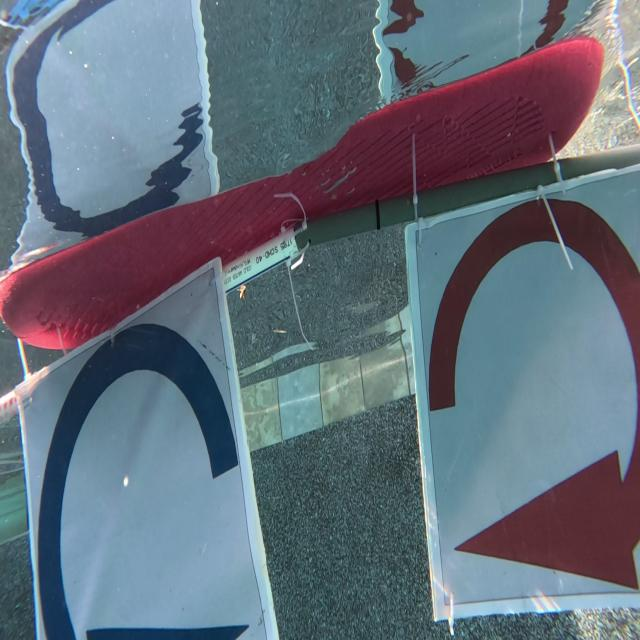blue_side: (7, 247, 305, 640)
red_side: (404, 159, 640, 618)
